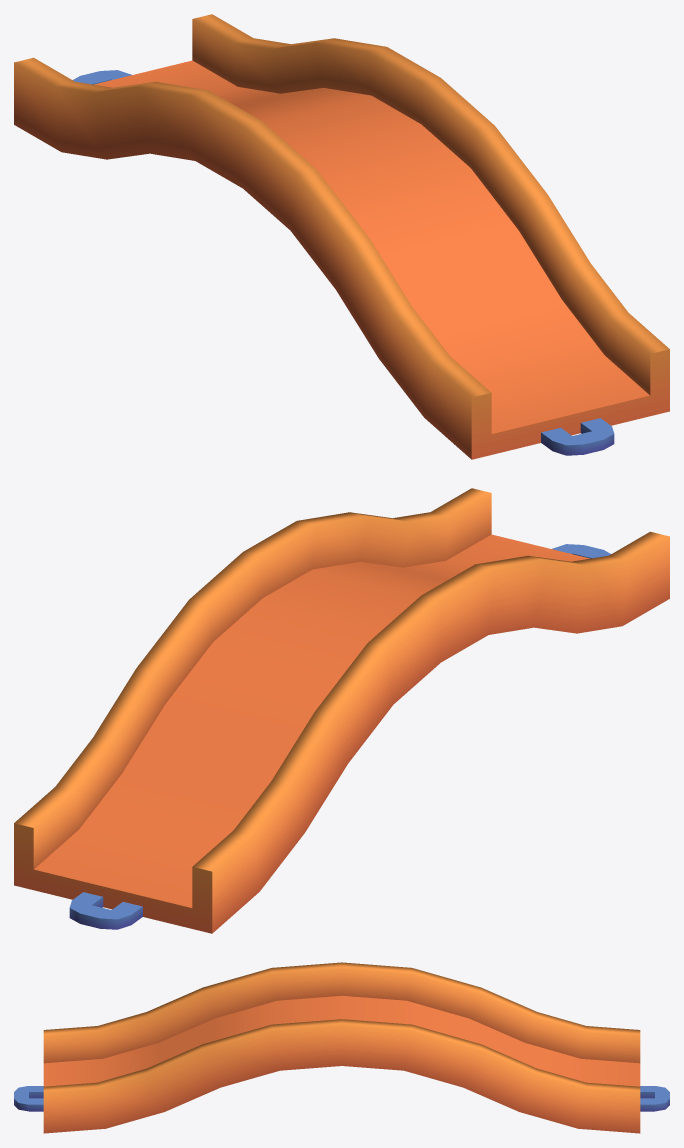
Rendered from track-narrow-straight-bump-up.glb.
The picture shows the model from 3 angles, top to bottom: view 1: azimuth 30°, elevation 25°; view 2: azimuth 150°, elevation 25°; view 3: azimuth 270°, elevation 25°; orthographic projection. The views are drawn at different scales.
Visible parts, largest first — view 1: track-narrow-straight-bump-up; view 2: track-narrow-straight-bump-up; view 3: track-narrow-straight-bump-up.
Boxes of the visible parts, box(x1,y1,x2,y2) form: track-narrow-straight-bump-up: box(14, 14, 669, 459); track-narrow-straight-bump-up: box(14, 488, 669, 933); track-narrow-straight-bump-up: box(14, 962, 669, 1133).
Bounding box in the file's own units: 1 × 0.8 × 4.4.
1 material, 1 textured.
